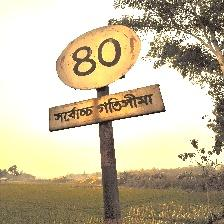Speed-limit: (50, 22, 163, 133)
